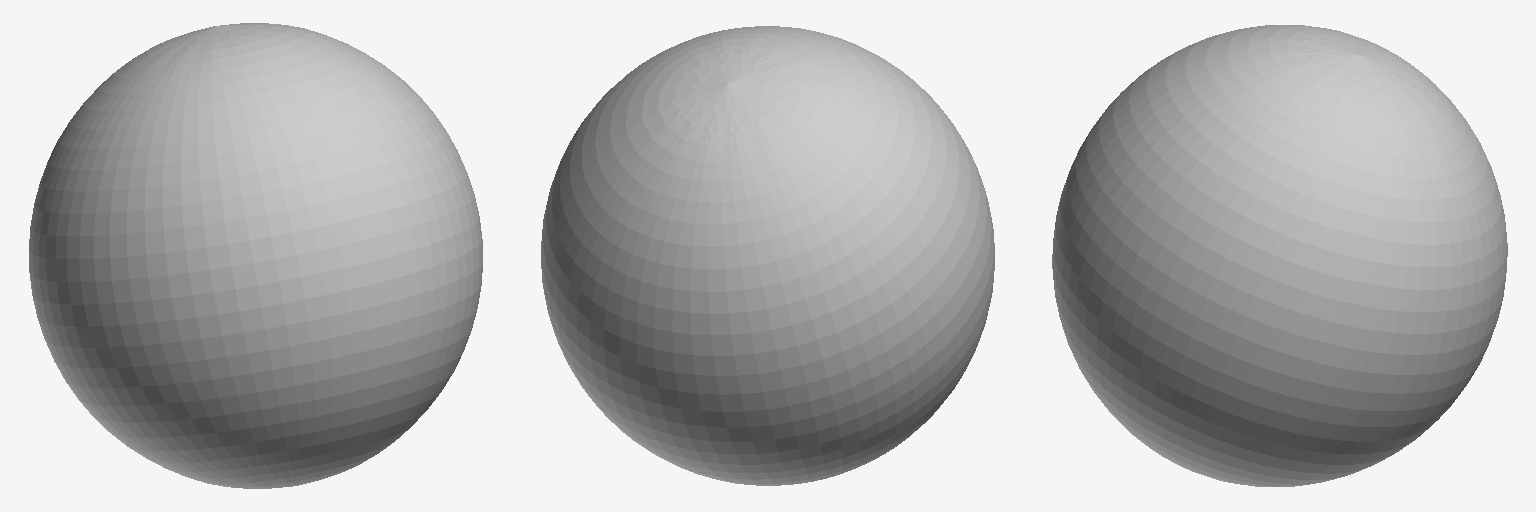
The model's file is ball9.obj.
The picture shows the model from 3 angles: view 1: azimuth 30°, elevation 25°; view 2: azimuth 150°, elevation 25°; view 3: azimuth 270°, elevation 25°; orthographic projection.
Parts seen in each view (by area): view 1: Sphere01.005; view 2: Sphere01.005; view 3: Sphere01.005.
Part boxes in pixels (x1,y1,x2,y2): Sphere01.005: (29, 23, 482, 488); Sphere01.005: (541, 26, 994, 485); Sphere01.005: (1052, 25, 1507, 486).
Size of the model in its own units: 5.45 by 5.58 by 5.46.